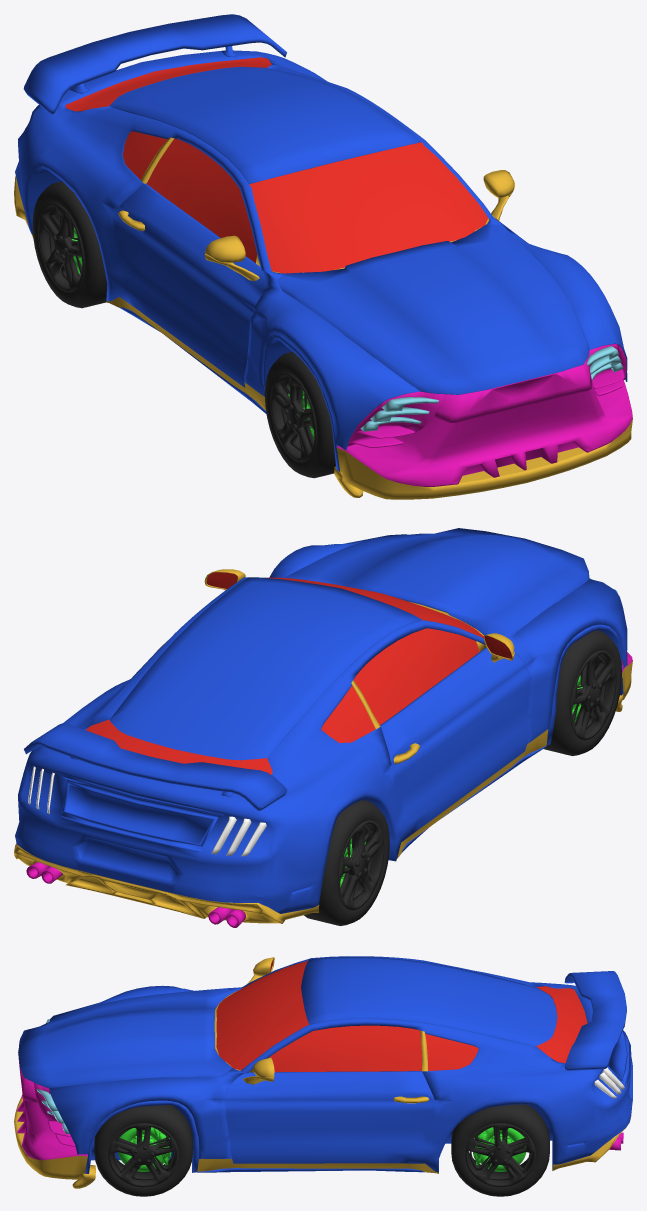
The model's file is Ruder_Low_Final.fbx.
The picture shows the model from 3 angles, top to bottom: view 1: azimuth 30°, elevation 25°; view 2: azimuth 150°, elevation 25°; view 3: azimuth 270°, elevation 25°; orthographic projection. The views are drawn at different scales.
Parts seen in each view (by area): view 1: carbody_l, windowsglass_l, extras_l, bodyparts_l, wheel_l.002, wheel_l.001, frontlight_l; view 2: carbody_l, windowsglass_l, bodyparts_l, wheel_l.001, wheel_l.002, backlight_l, extras_l; view 3: carbody_l, windowsglass_l, wheel_l.003, wheel_l, bodyparts_l, extras_l, backlight_l, frontlight_l.
Boxes of the visible parts, x1,y1,x2,y2 form: carbody_l: (15,14,627,471); windowsglass_l: (65,57,487,273); extras_l: (336,344,632,486); bodyparts_l: (14,137,632,499); wheel_l.002: (32,181,107,308); wheel_l.001: (265,351,335,478); frontlight_l: (360,346,623,431); carbody_l: (15,528,627,913); windowsglass_l: (85,572,511,774); bodyparts_l: (14,569,632,923); wheel_l.001: (543,630,621,755); wheel_l.002: (304,800,389,925); backlight_l: (28,766,266,856); extras_l: (26,652,632,927); carbody_l: (18,956,632,1173); windowsglass_l: (216,960,587,1072); wheel_l.003: (451,1104,549,1196); wheel_l: (94,1105,192,1196); bodyparts_l: (14,957,631,1188); extras_l: (17,1041,623,1160); backlight_l: (594,1026,624,1098); frontlight_l: (36,1019,69,1133).
Size of the model in its own units: 203 by 134 by 458.
